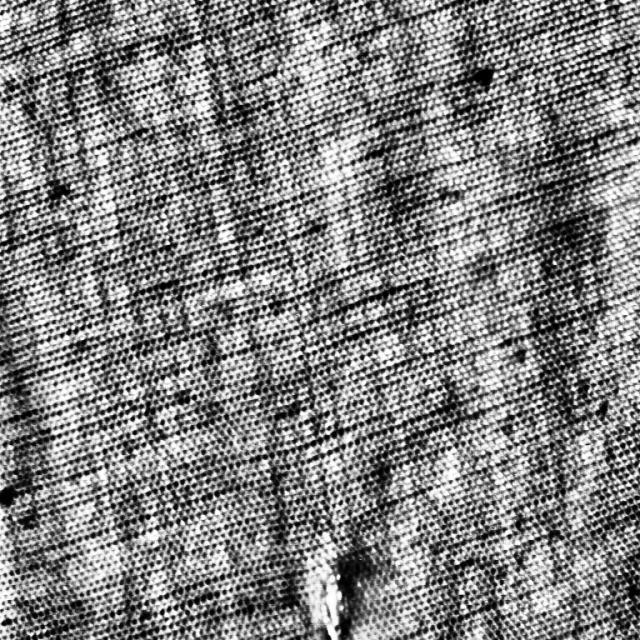Hole: (318, 569, 358, 639)
